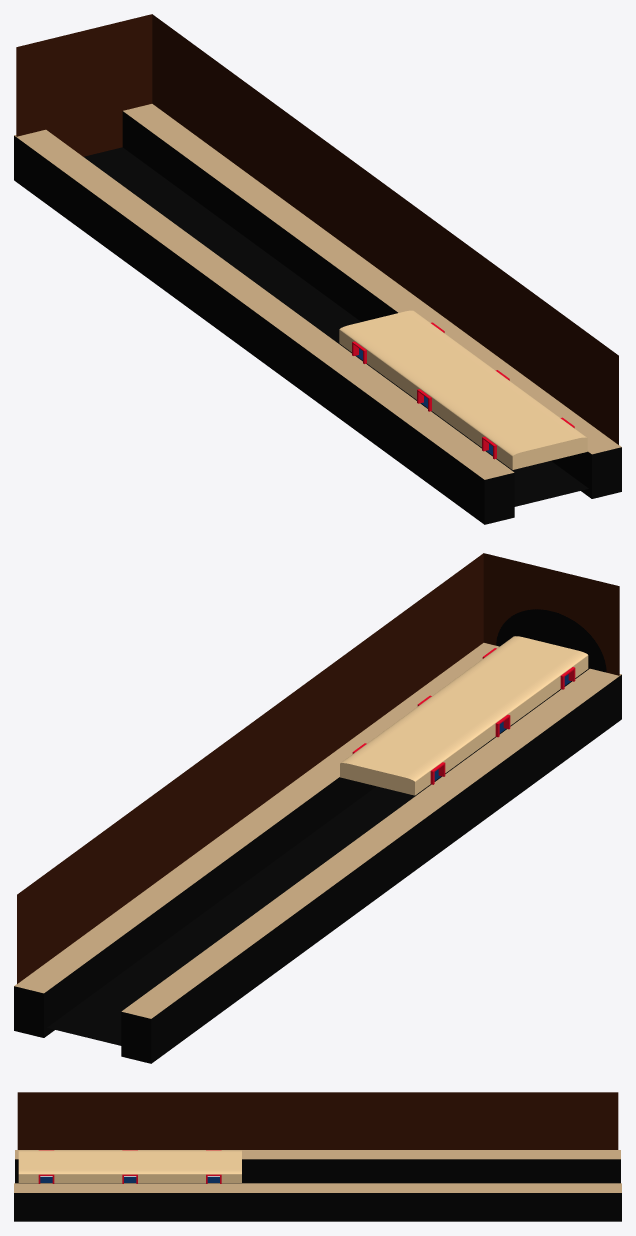
Rendered from train.obj.
3 renders of one model, top to bottom at view 1: azimuth 30°, elevation 25°; view 2: azimuth 150°, elevation 25°; view 3: azimuth 270°, elevation 25°, orthographic. The views are drawn at different scales.
Visible parts, largest first — view 1: Cube; view 2: Cube; view 3: Cube.
Boxes of the visible parts, box(x1,y1,x2,y2) form: Cube: box(14, 14, 621, 524); Cube: box(14, 553, 621, 1063); Cube: box(14, 1092, 621, 1221).
Size of the model in its own units: 9.1 by 8.57 by 54.47.
1 material, 1 textured.
